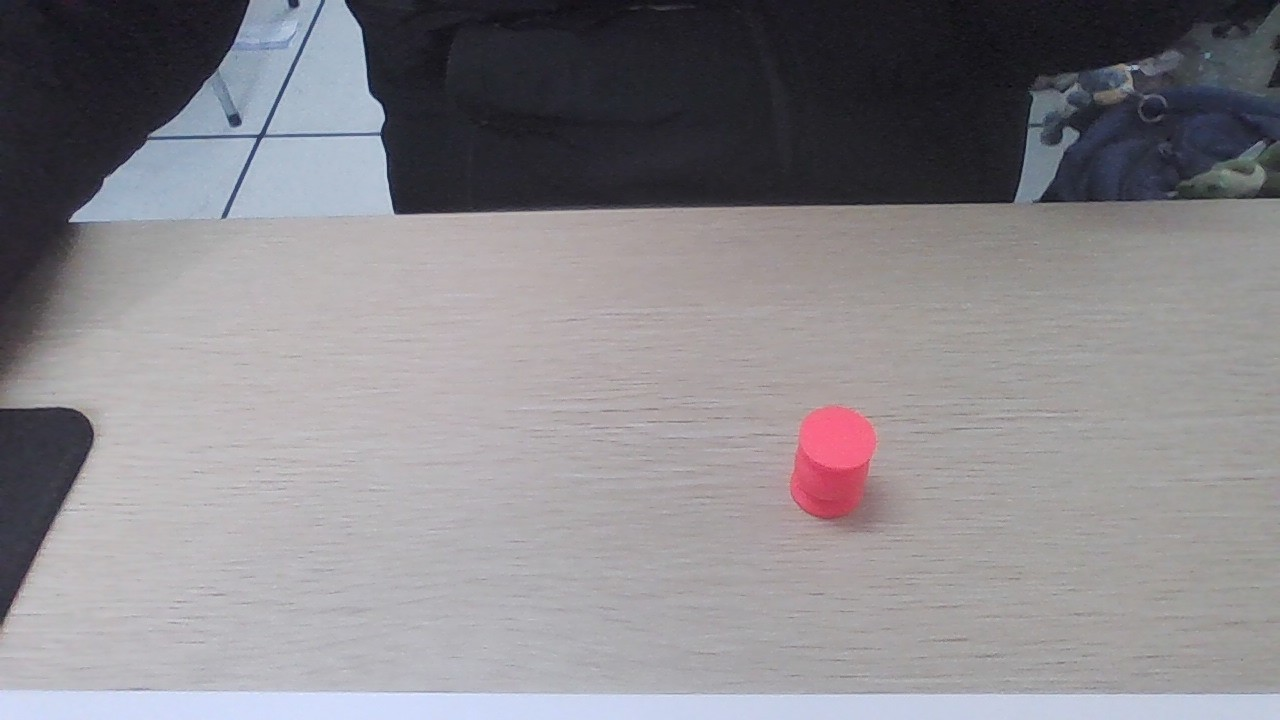KHS-plastic: (788, 413, 873, 513)
